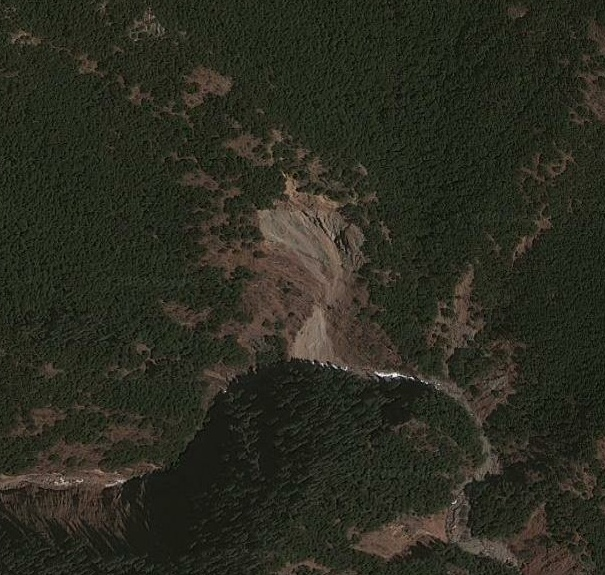slope: (257, 171, 373, 307), (292, 304, 341, 363)
